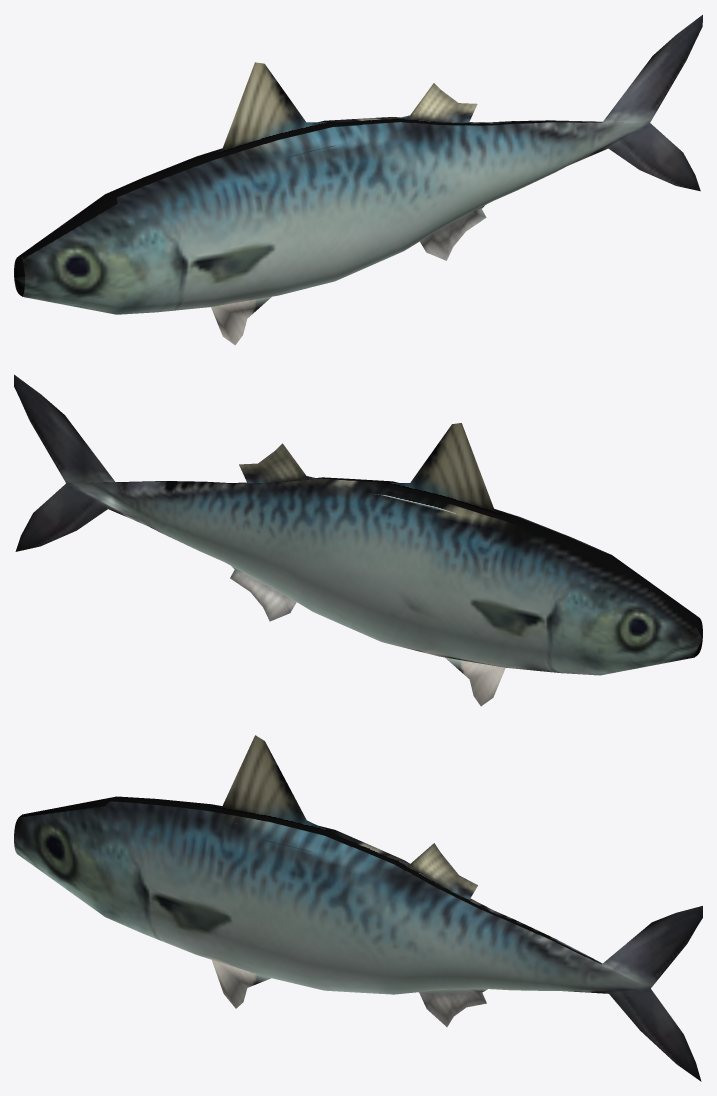
Rendered from fish.gltf.
The picture shows the model from 3 angles, top to bottom: view 1: azimuth 30°, elevation 25°; view 2: azimuth 150°, elevation 25°; view 3: azimuth 330°, elevation 25°; orthographic projection.
Parts seen in each view (by area): view 1: Sphere; view 2: Sphere; view 3: Sphere.
Part boxes in pixels (<box>): Sphere: <box>14,15,702,345</box>; Sphere: <box>14,374,702,706</box>; Sphere: <box>14,735,702,1081</box>.
Size of the model in its own units: 0.8399 by 0.3249 by 0.0946.
Materials: 1 (1 with a texture image).
